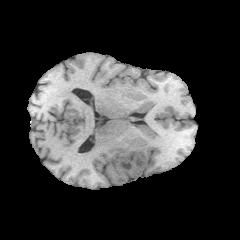glioma: (107, 148, 145, 176)
